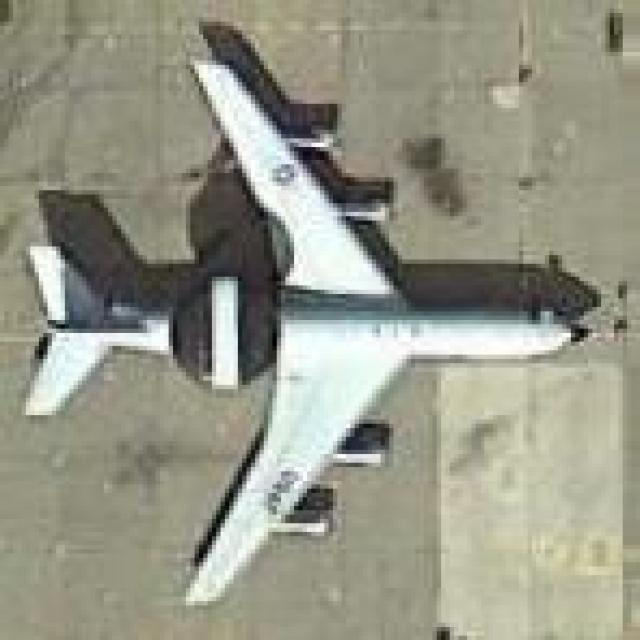E-3_TopDown: (18, 13, 606, 605)
